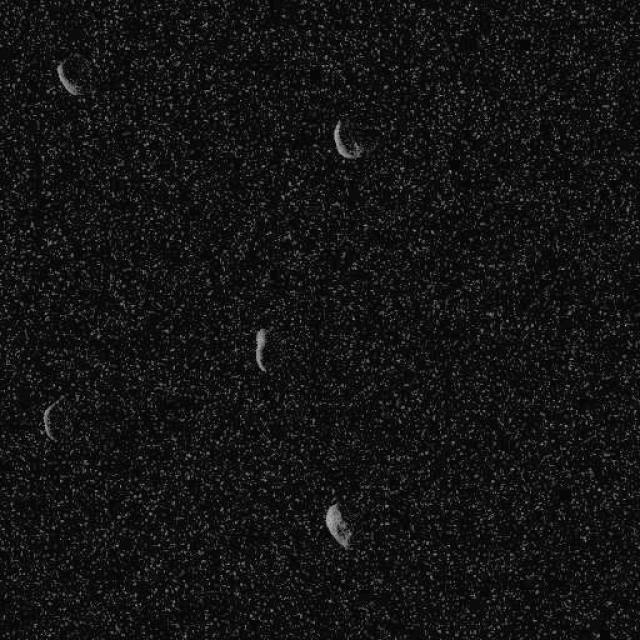D2: (55, 52, 97, 98), (322, 501, 352, 550), (331, 116, 364, 160), (40, 393, 69, 442), (254, 327, 268, 372)
